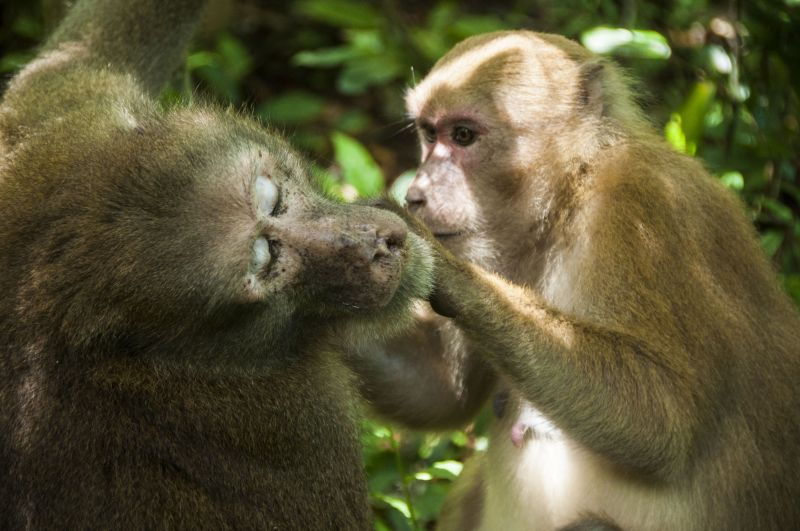monkey: (374, 18, 800, 531), (1, 1, 411, 529)
